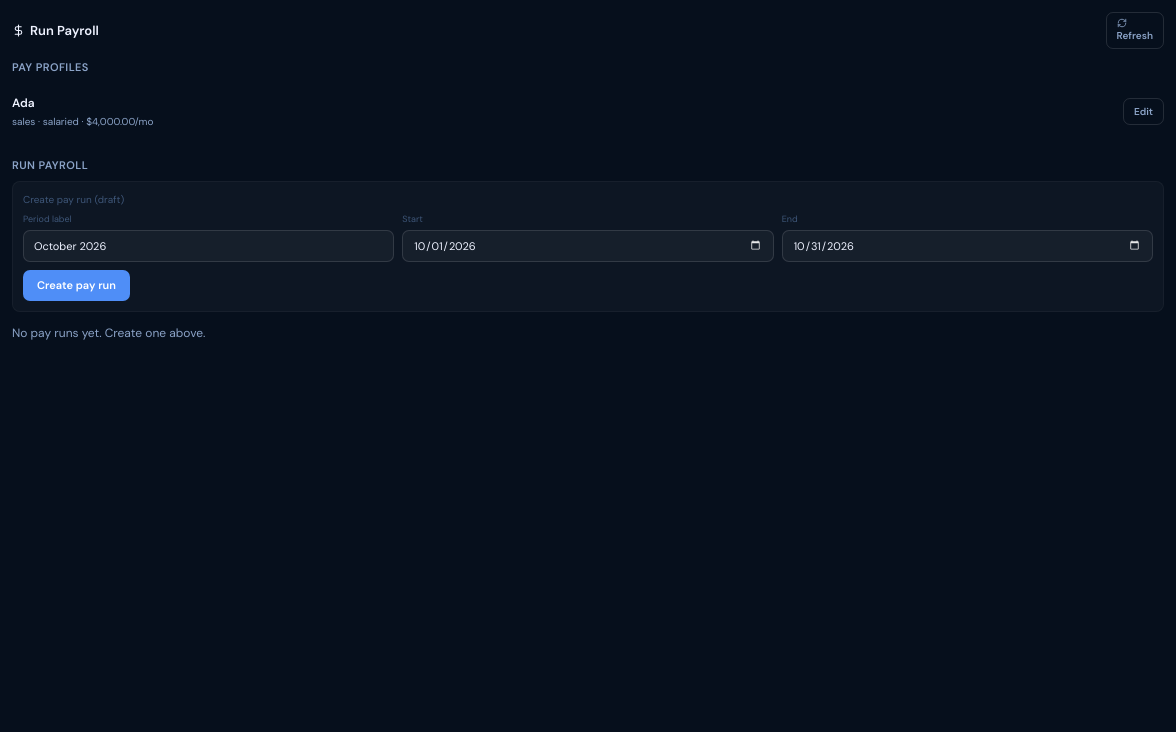
PayrollAdmin allowances gate › closes the form after saving an existing profile
What coordinates should you click on to do the following:
click the button "Edit"
I would click on:
 (1143, 111)
Its box is [1123,98,1164,124].
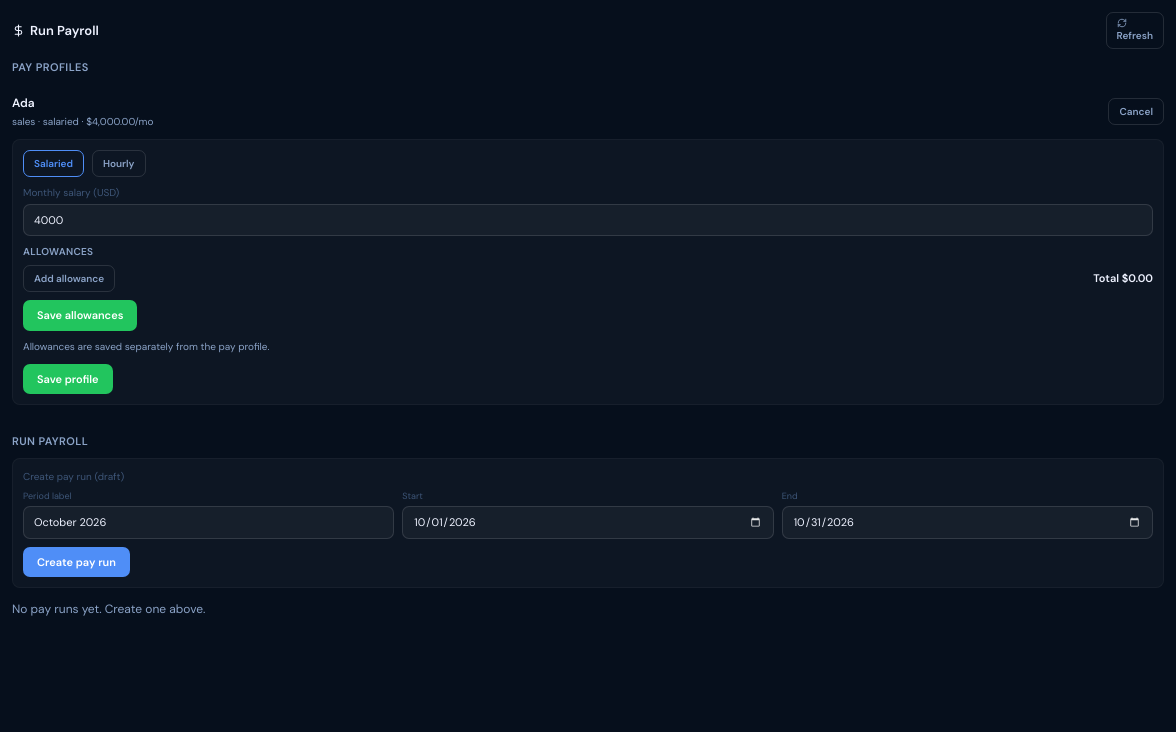
Expected: the text "ALLOWANCES" is shown, [23,245,93,258]
What coordinates should you click on to do the following:
click the button "Save profile"
I would click on:
 (68, 379)
Its box is [23,364,113,394].
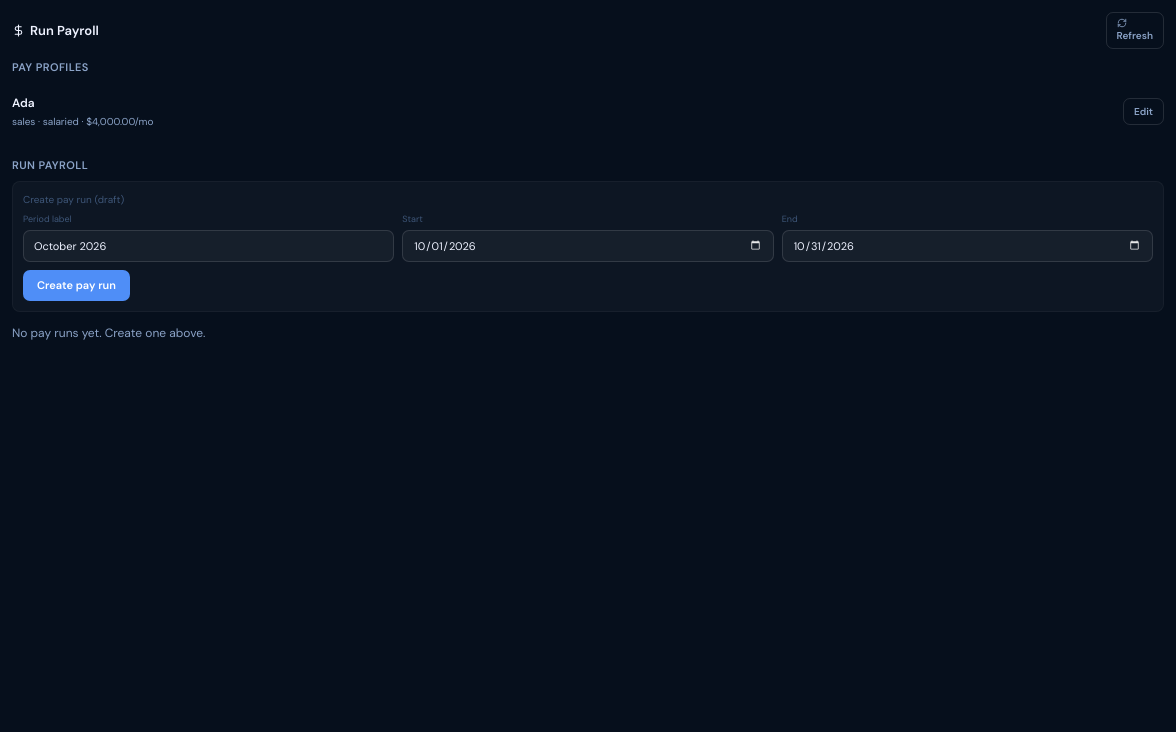
Expected: the text "ALLOWANCES" is gone
